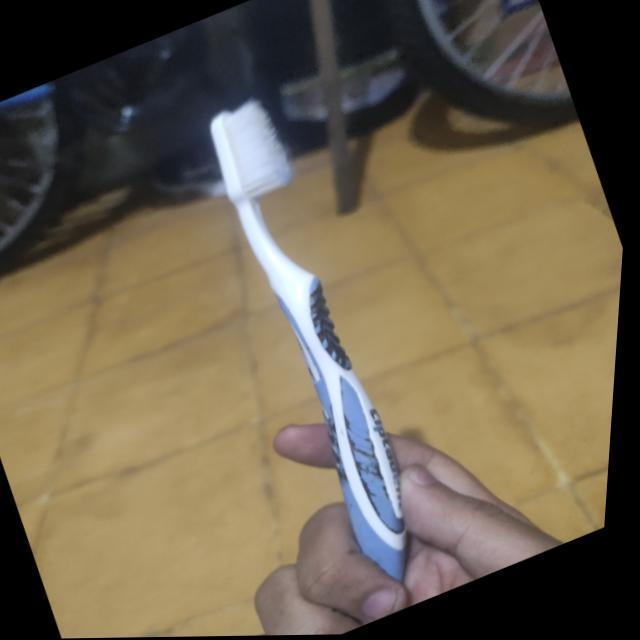toothbrush: (145, 55, 512, 605)
